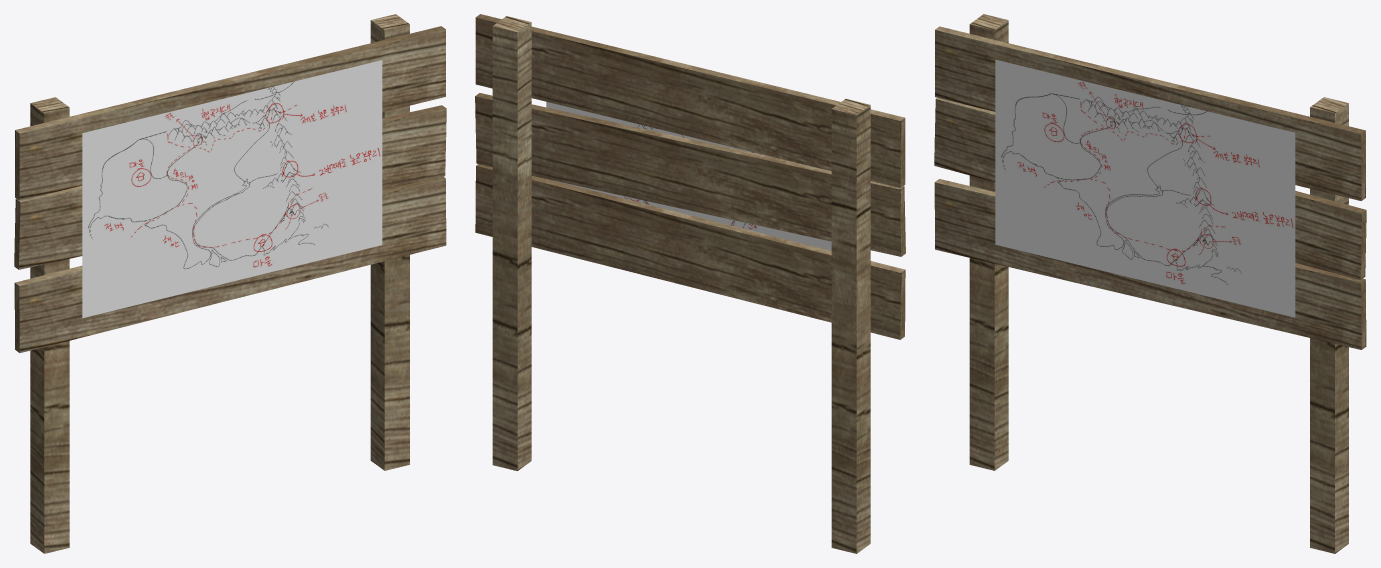
Rendered from noticeboard.FBX.
The picture shows the model from 3 angles, left to right: view 1: azimuth 30°, elevation 25°; view 2: azimuth 150°, elevation 25°; view 3: azimuth 330°, elevation 25°; orthographic projection.
Parts seen in each view (by area): view 1: Rectangle001, Box003, Box005, Box001, Box004, Box002; view 2: Box003, Box005, Box004, Box001, Box002, Rectangle001; view 3: Rectangle001, Box003, Box005, Box004, Box001, Box002.
Part boxes in pixels (left/top/right/bottom): Rectangle001: left=82, top=60, right=382, bottom=318; Box003: left=15, top=26, right=445, bottom=200; Box005: left=14, top=176, right=446, bottom=352; Box001: left=30, top=97, right=69, bottom=553; Box004: left=14, top=105, right=446, bottom=269; Box002: left=370, top=14, right=409, bottom=470; Box003: left=475, top=14, right=905, bottom=187; Box005: left=475, top=164, right=905, bottom=339; Box004: left=475, top=93, right=905, bottom=256; Box001: left=831, top=99, right=870, bottom=553; Box002: left=492, top=16, right=531, bottom=470; Rectangle001: left=546, top=102, right=831, bottom=250; Rectangle001: left=995, top=59, right=1295, bottom=317; Box003: left=935, top=26, right=1365, bottom=200; Box005: left=934, top=179, right=1366, bottom=349; Box004: left=934, top=98, right=1366, bottom=280; Box001: left=969, top=14, right=1008, bottom=470; Box002: left=1310, top=97, right=1348, bottom=553.
Size of the model in its own units: 325 by 320 by 26.44.
Materials: 2 (2 with a texture image).
